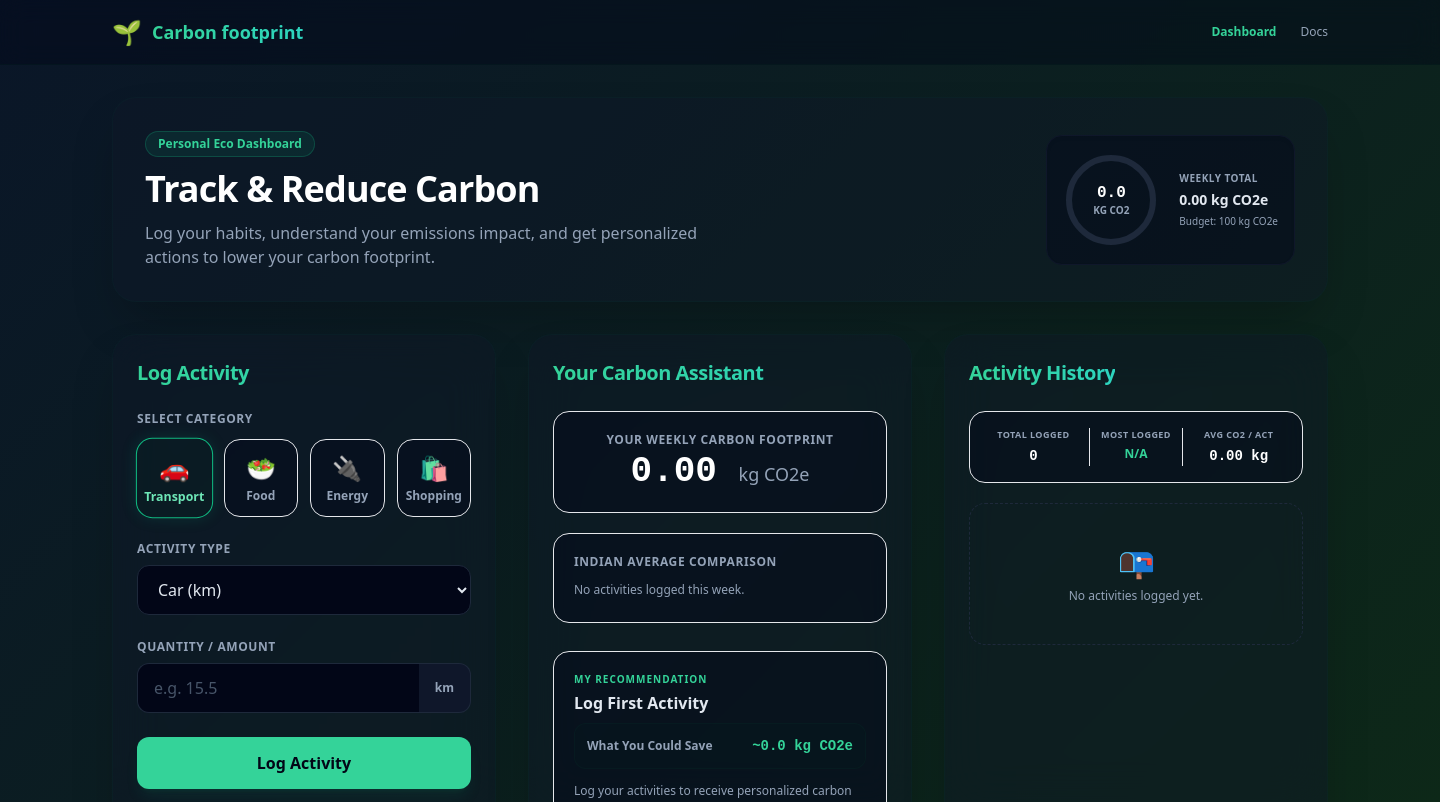
Test: Carbon Footprint App Integration › should clear the history when Clear All is clicked
Type "15" into the number field labelled "Quantity / Amount" at (278, 688), box [137,663,419,713]
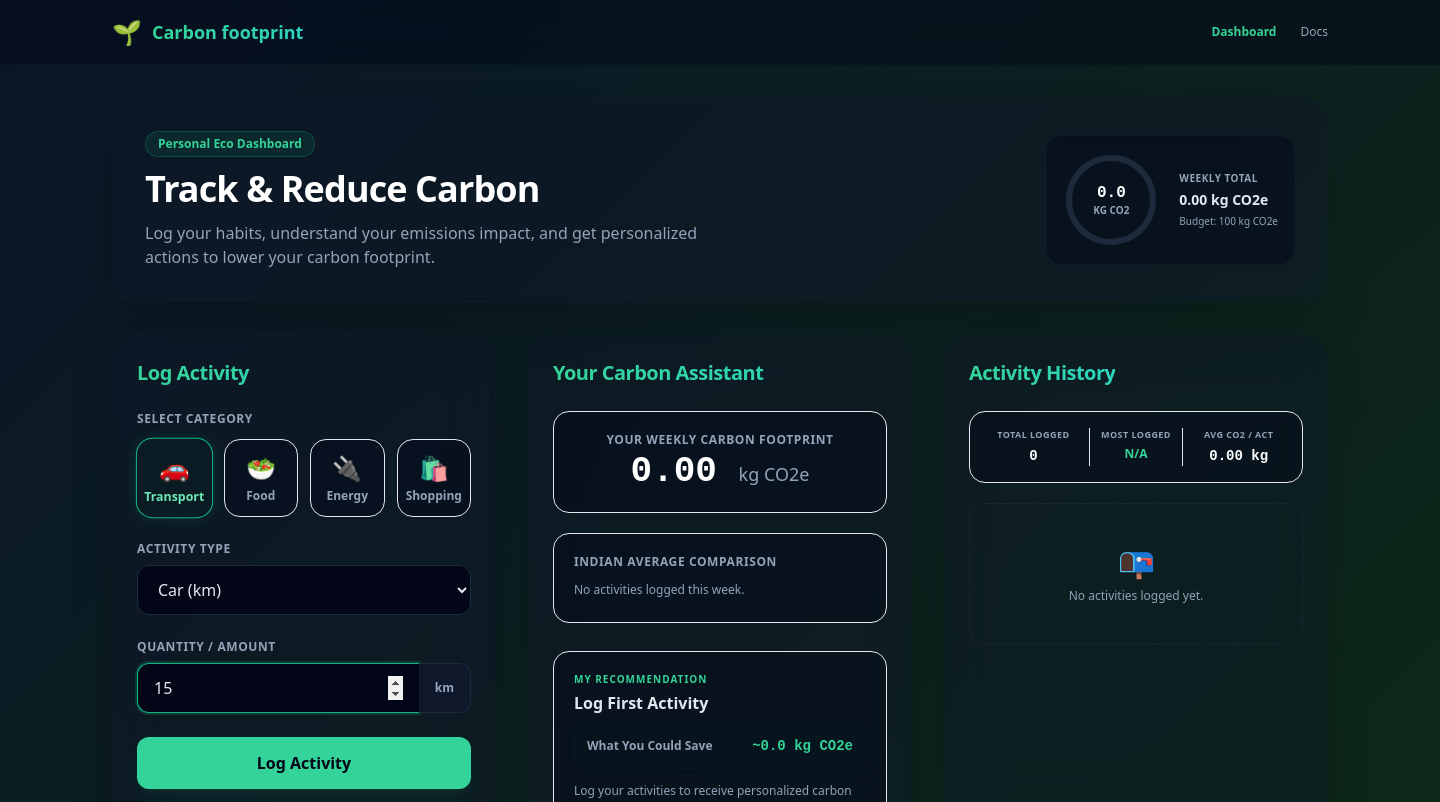
Click the button "Log Activity" at (304, 763), box [137,737,471,789]
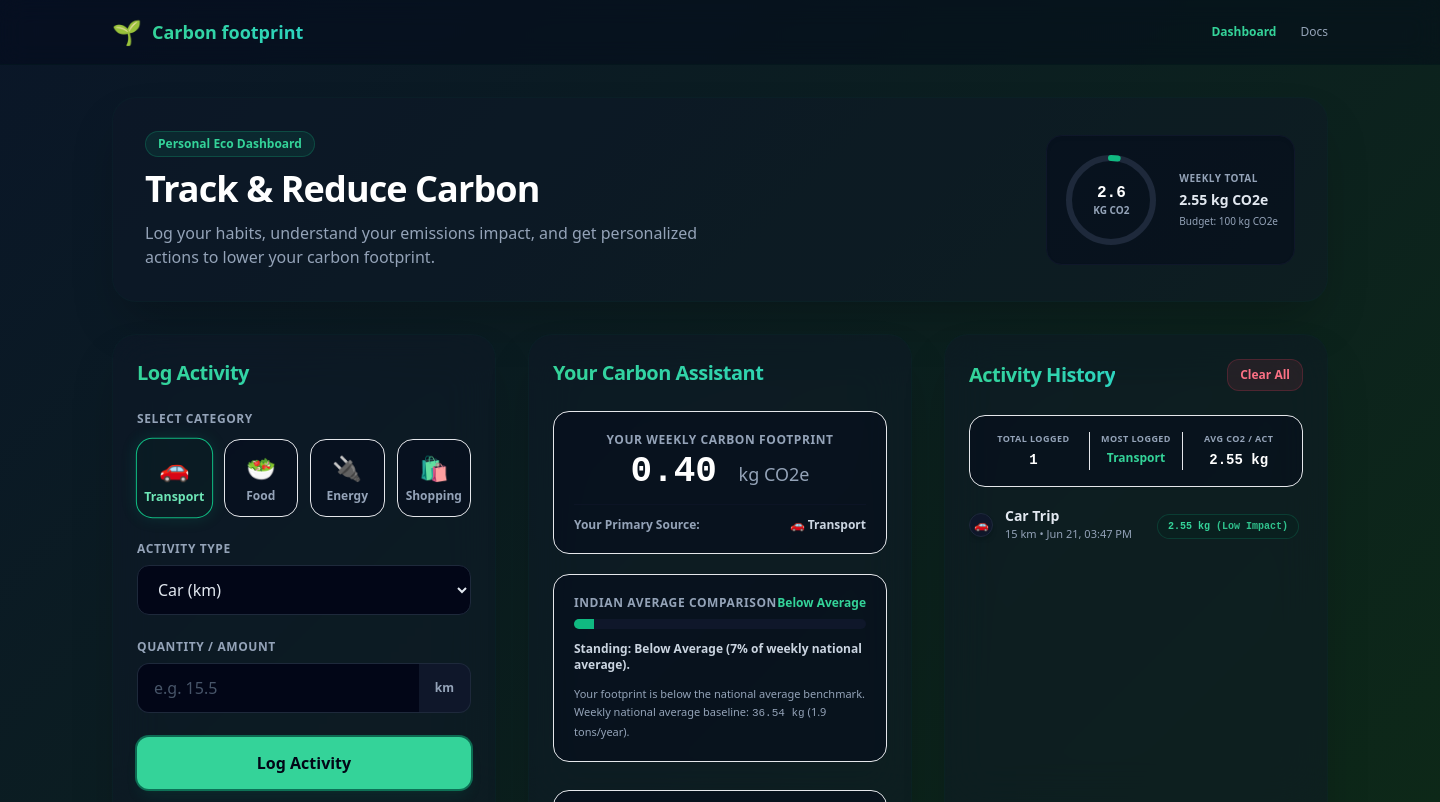
Check: the text "Car Trip" is shown, box [1005,506,1059,524]
Click the button with aria-label "clear all activity history" at (1265, 375), box [1227,359,1303,391]
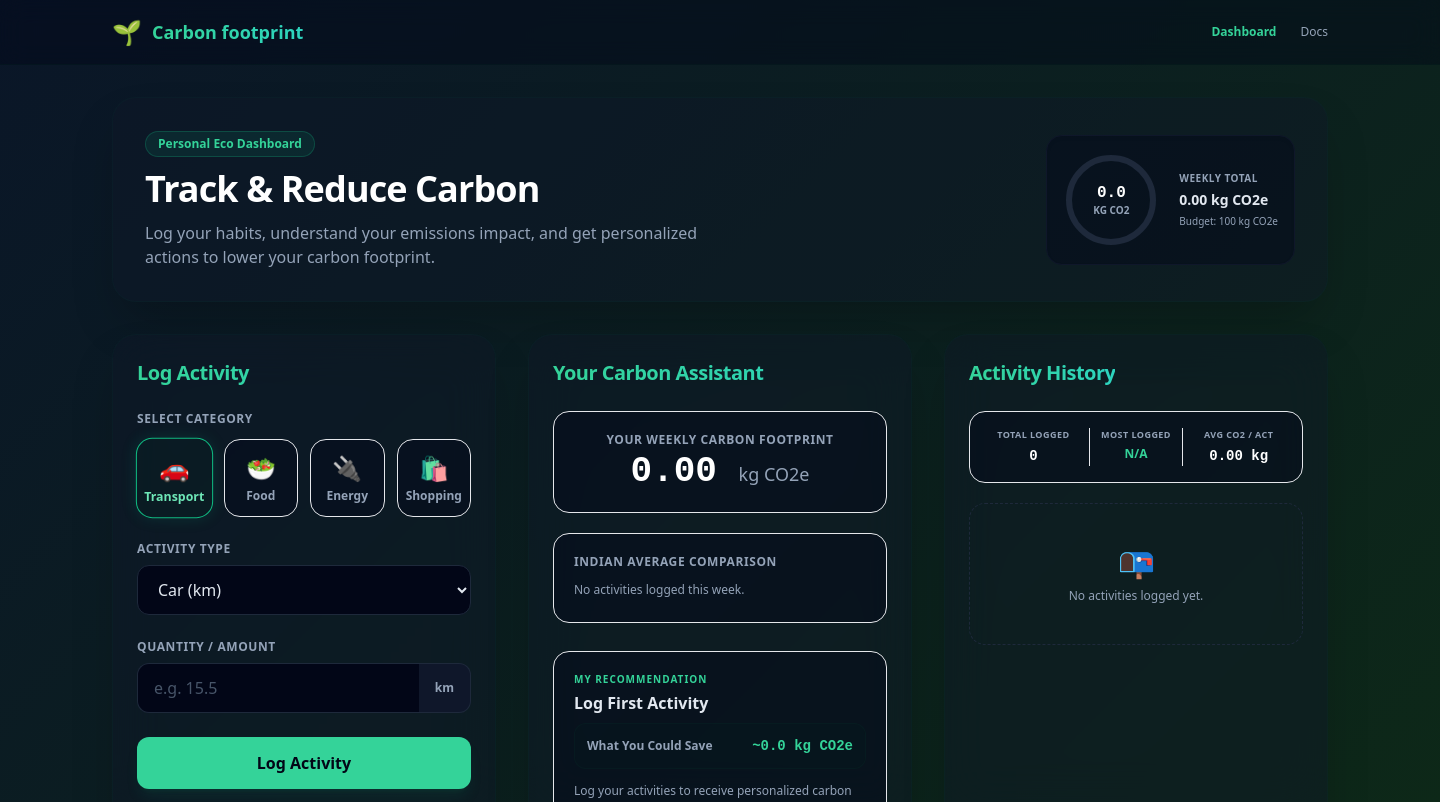
Check: the text "No activities logged yet." is shown, box [1069,586,1203,604]
